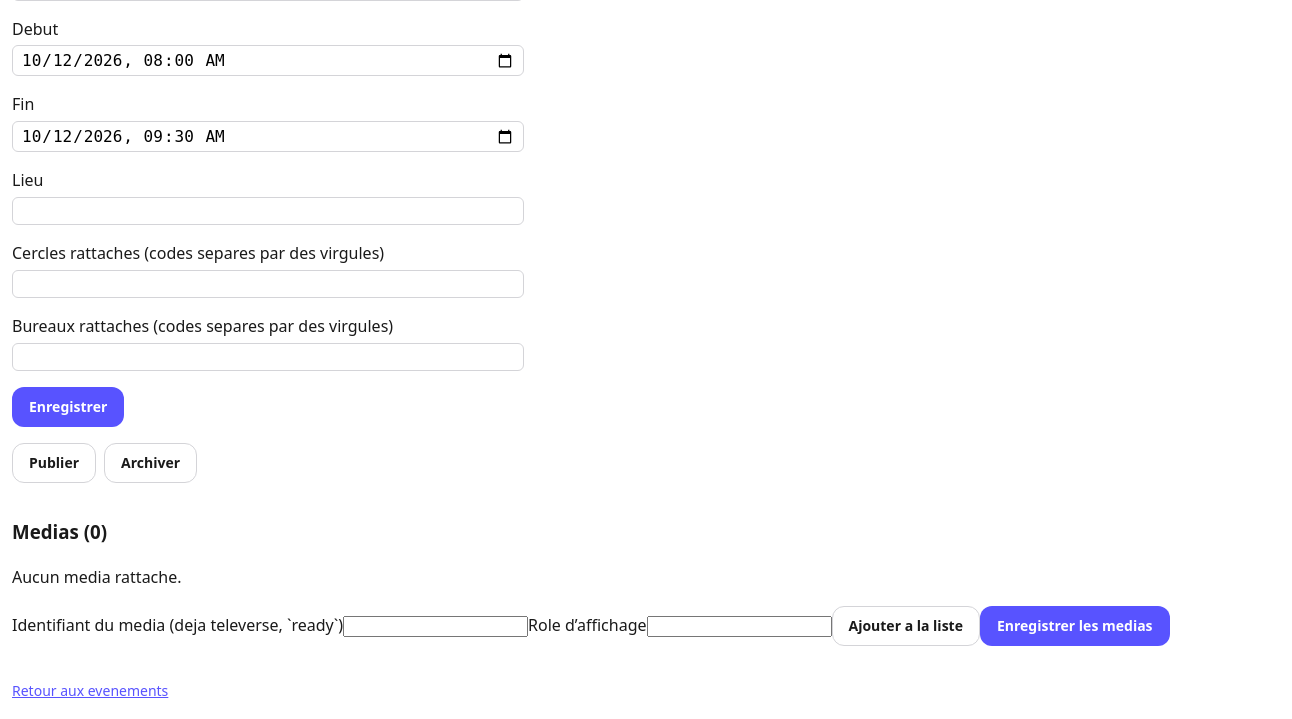
Test: publier › envoie la version, puis recharge l’evenement publie
(page scrolled)
Step 1. Click the button "Publier" → (54, 463), box left=12, top=443, right=96, bottom=483
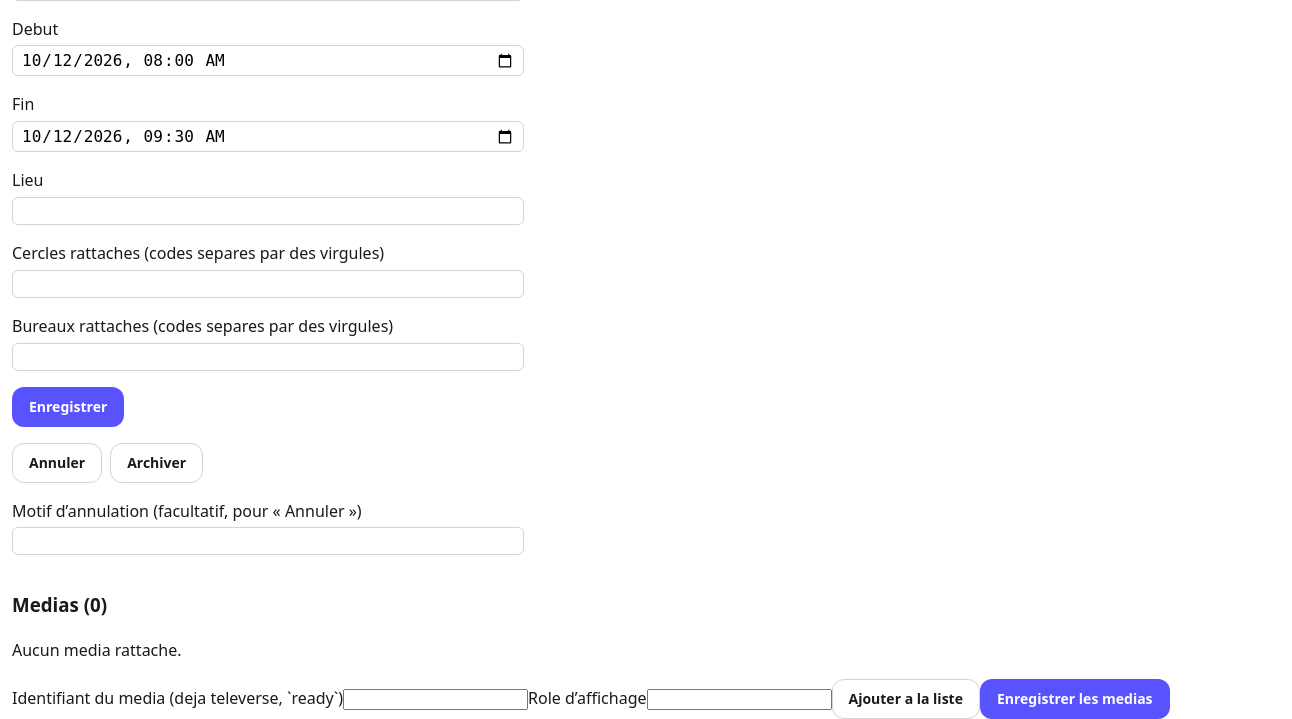
Expected: the button "Annuler" is shown, left=12, top=443, right=102, bottom=483
